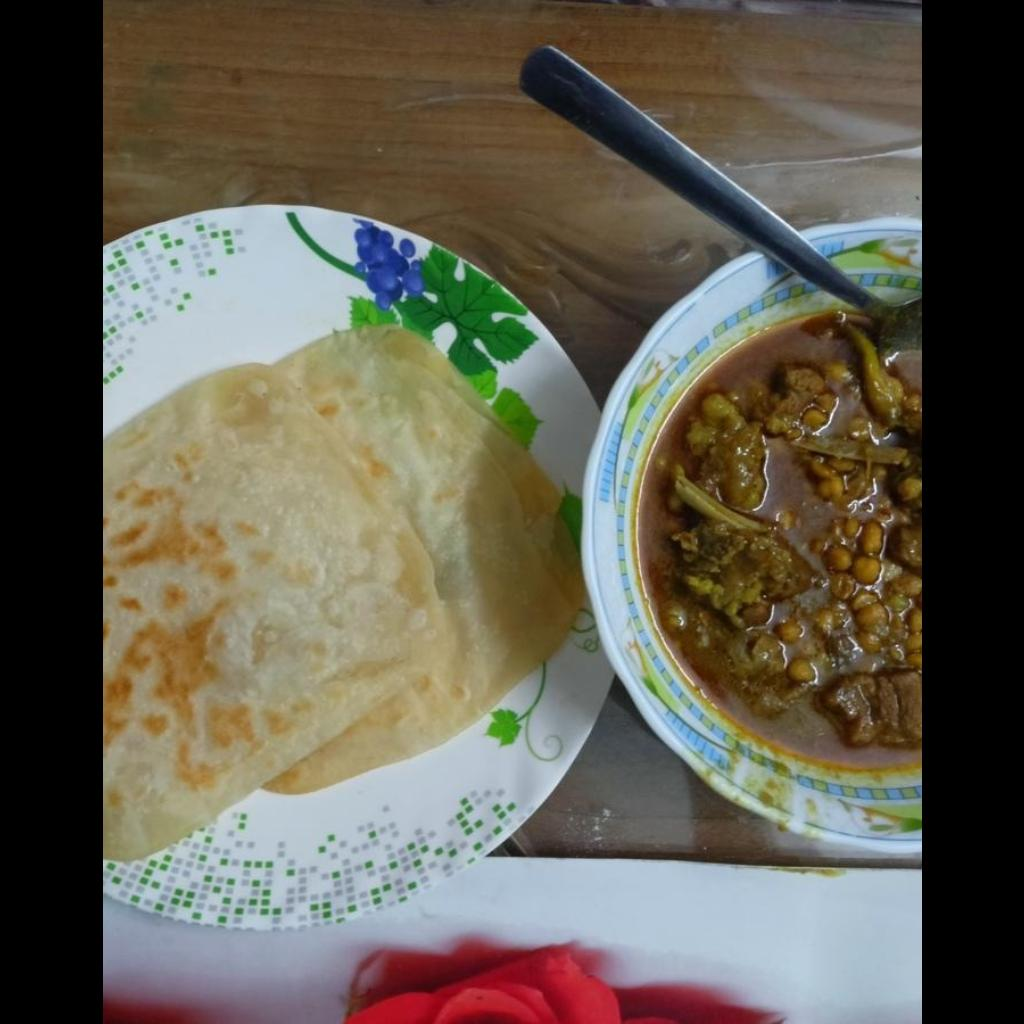beef: (673, 329, 918, 750)
ruti: (102, 322, 580, 863)
